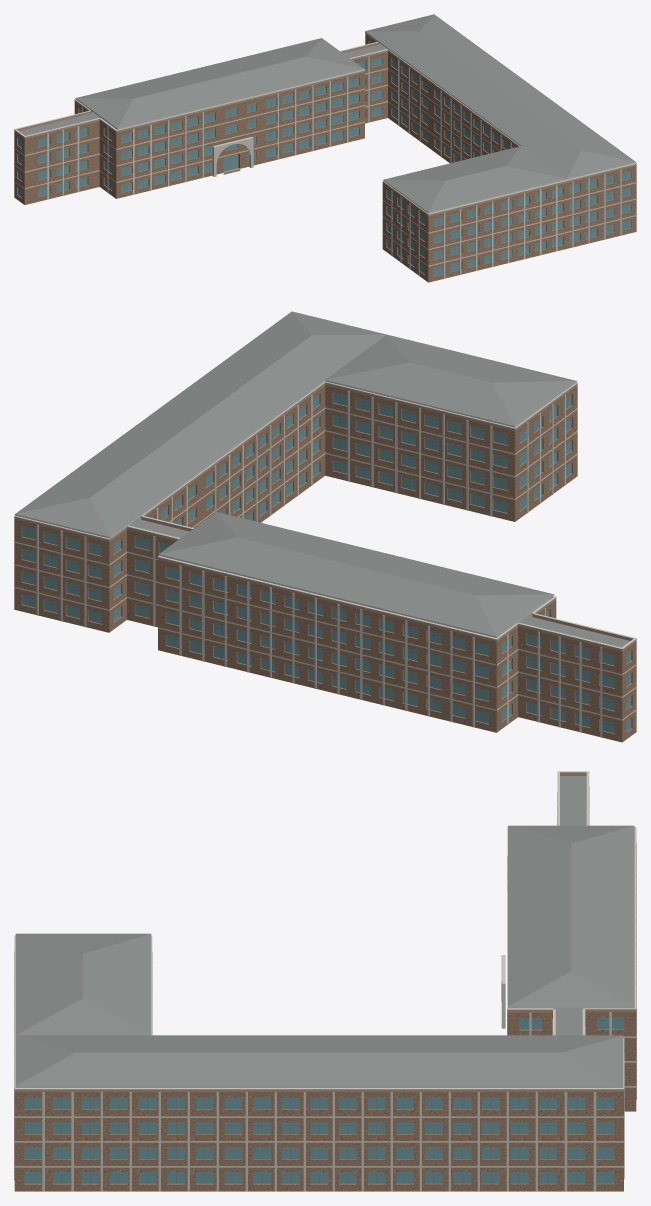
3 views of the same model, one above another, from view 1: azimuth 30°, elevation 25°; view 2: azimuth 150°, elevation 25°; view 3: azimuth 270°, elevation 25° (orthographic). The views are drawn at different scales.
Parts seen in each view (by area): view 1: health__wall, health__roof, health__glass, health__trim, health__frame, health__parapet; view 2: health__wall, health__roof, health__glass, health__trim, health__frame, health__parapet; view 3: health__roof, health__wall, health__glass, health__trim, health__frame, health__parapet.
Part boxes in pixels (box(x1,y1,x2,y2)): health__wall: box(14, 35, 636, 282); health__roof: box(19, 14, 635, 273); health__glass: box(18, 42, 631, 275); health__trim: box(14, 31, 636, 278); health__frame: box(18, 43, 631, 274); health__parapet: box(14, 33, 636, 216); health__wall: box(14, 385, 636, 742); health__roof: box(15, 311, 629, 742); health__glass: box(22, 392, 631, 733); health__trim: box(14, 380, 636, 737); health__frame: box(22, 394, 631, 731); health__parapet: box(14, 383, 636, 651); health__roof: box(15, 776, 635, 1191); health__wall: box(14, 1012, 636, 1191); health__glass: box(24, 1017, 623, 1183); health__trim: box(14, 771, 636, 1191); health__frame: box(24, 1020, 623, 1183); health__parapet: box(14, 772, 636, 1091).
Size of the model in its own units: 98.74 by 16.85 by 81.83.
8 materials, 1 textured.
